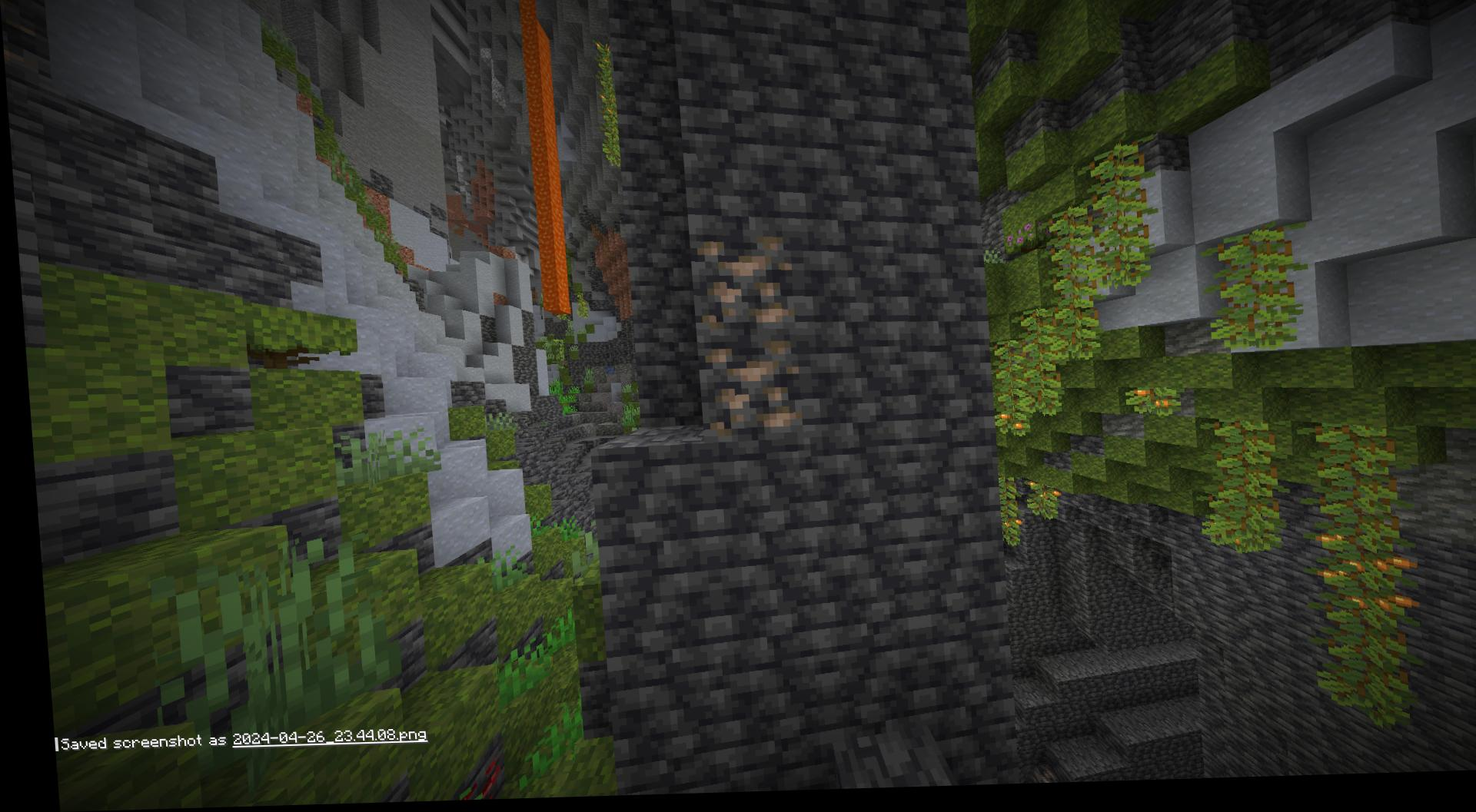iron ore: (687, 236, 791, 348), (696, 343, 793, 440)
